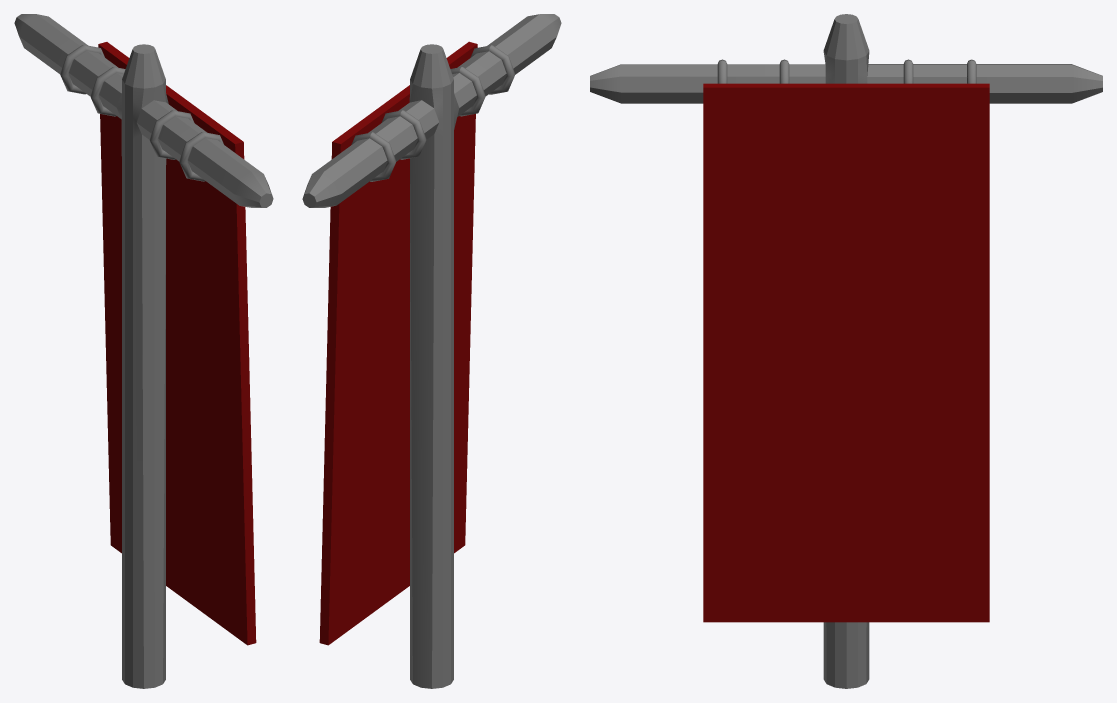
File: NewBanner.fbx
3 renders of one model, left to right at view 1: azimuth 30°, elevation 25°; view 2: azimuth 150°, elevation 25°; view 3: azimuth 270°, elevation 25°, orthographic. The views are drawn at different scales.
Visible parts, largest first — view 1: pCube1, pCylinder1, polySurface4, polySurface2, polySurface5, polySurface3; view 2: pCube1, pCylinder1, polySurface3, polySurface5, polySurface2, polySurface4; view 3: pCube1, pCylinder1.
Boxes of the visible parts, x1,y1,x2,y2 form: pCube1: (98,42,256,645); pCylinder1: (14,14,273,688); polySurface4: (149,110,194,159); polySurface2: (60,45,104,94); polySurface5: (179,132,223,181); polySurface3: (90,67,125,116); pCube1: (319,41,477,645); pCylinder1: (302,14,561,688); polySurface3: (381,110,426,159); polySurface5: (470,45,515,94); polySurface2: (351,132,396,181); polySurface4: (450,67,485,116); pCube1: (703,83,989,622); pCylinder1: (590,14,1102,688).
Bounding box in the file's own units: 2.63 × 23.43 × 16.5.
